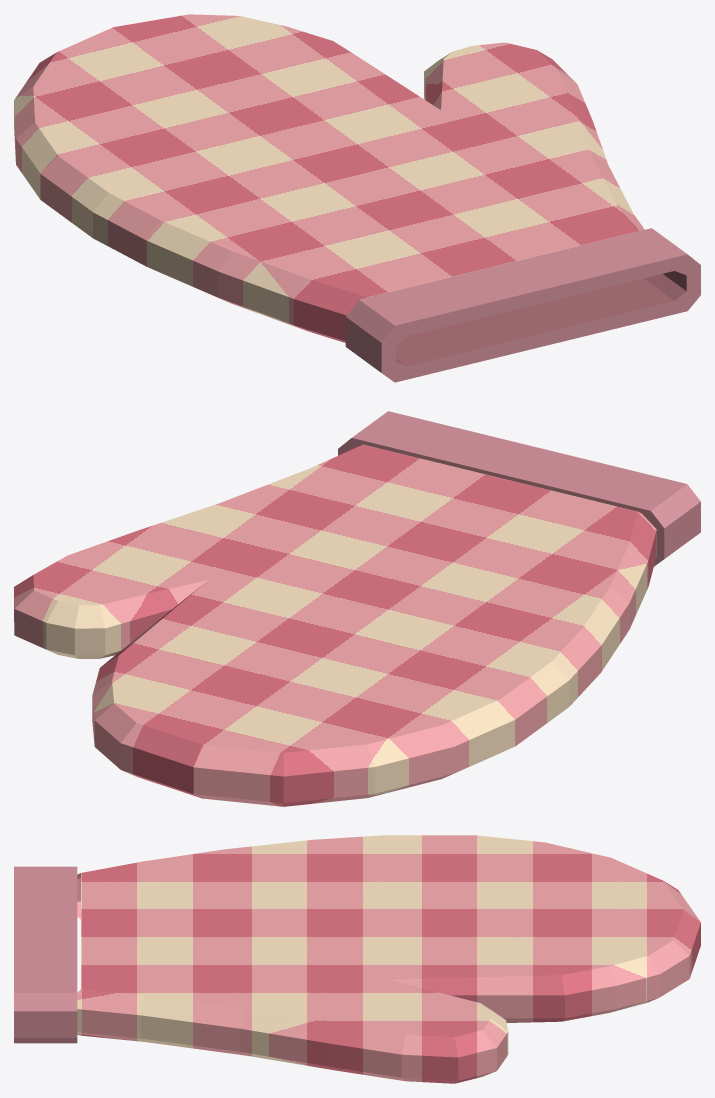
The model's file is 11-oven-mitt.glb.
3 views of the same model, one above another, from view 1: azimuth 30°, elevation 25°; view 2: azimuth 150°, elevation 25°; view 3: azimuth 270°, elevation 25° (orthographic). The views are drawn at different scales.
Visible parts, largest first — view 1: 01 Gingham padded oven mitt, 02 Pink cuff with wrist opening; view 2: 01 Gingham padded oven mitt, 02 Pink cuff with wrist opening; view 3: 01 Gingham padded oven mitt, 02 Pink cuff with wrist opening.
Part boxes in pixels (x1=…): 01 Gingham padded oven mitt: x1=14, y1=14, x2=644, y2=342; 02 Pink cuff with wrist opening: x1=345, y1=228, x2=700, y2=382; 01 Gingham padded oven mitt: x1=14, y1=444, x2=656, y2=806; 02 Pink cuff with wrist opening: x1=338, y1=411, x2=700, y2=566; 01 Gingham padded oven mitt: x1=77, y1=835, x2=700, y2=1083; 02 Pink cuff with wrist opening: x1=14, y1=866, x2=77, y2=1043.
Bounding box in the file's own units: 2.26 × 0.245 × 3.03.
Materials: 3 (1 with a texture image).
